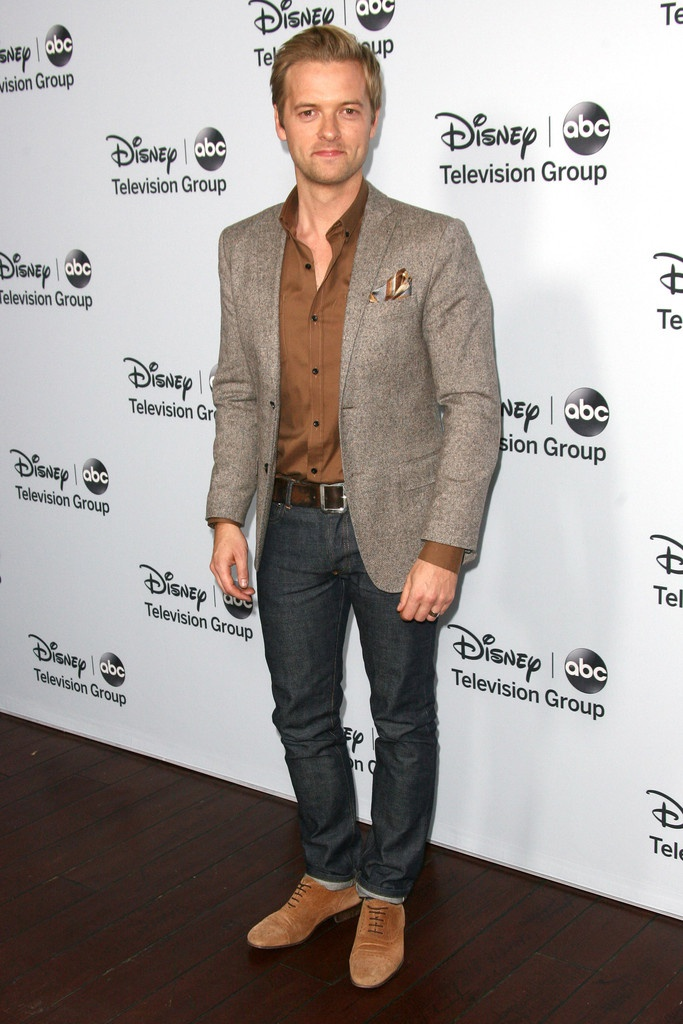bad: (285, 86, 374, 176)
